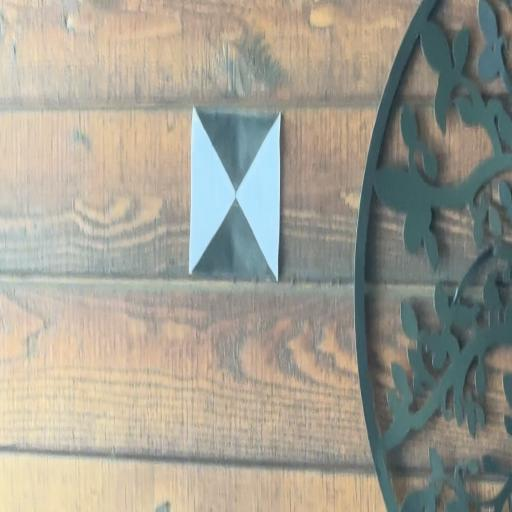target: (191, 108, 281, 281)
